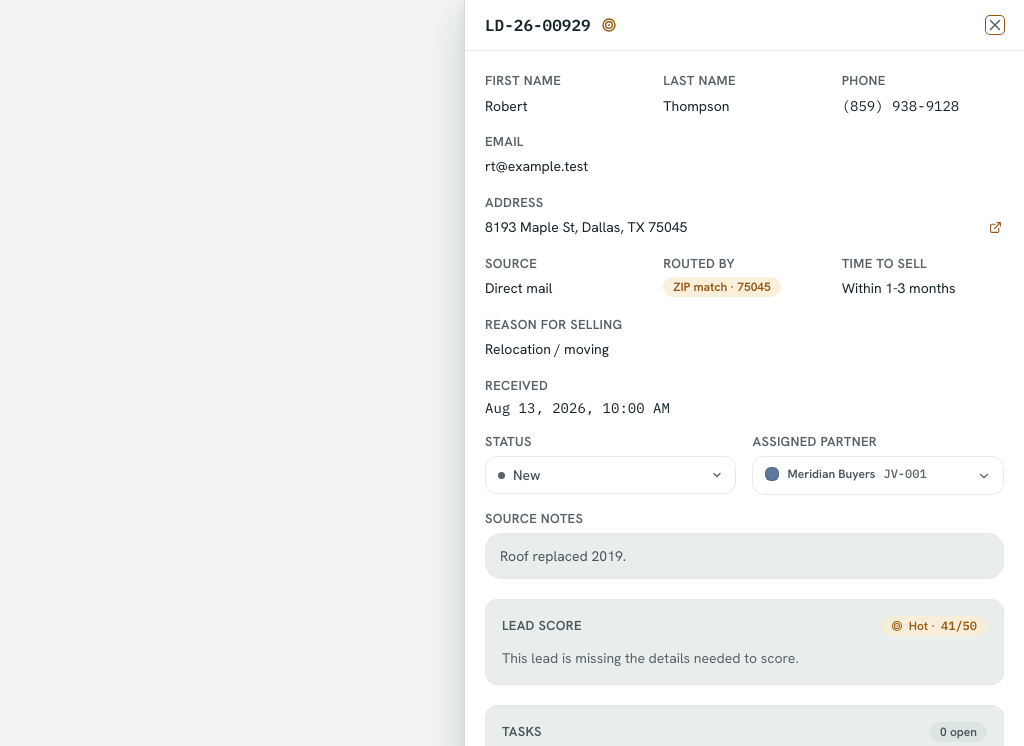
Test: N5-11: optimistic paint, rollback, and the retry toast › N5-12: a 4xx (an address/ZIP dedupe collision) surfaces the SERVER's message in the toast
Click the button with aria-label "Address:" at (586, 227), box [485,215,958,240]
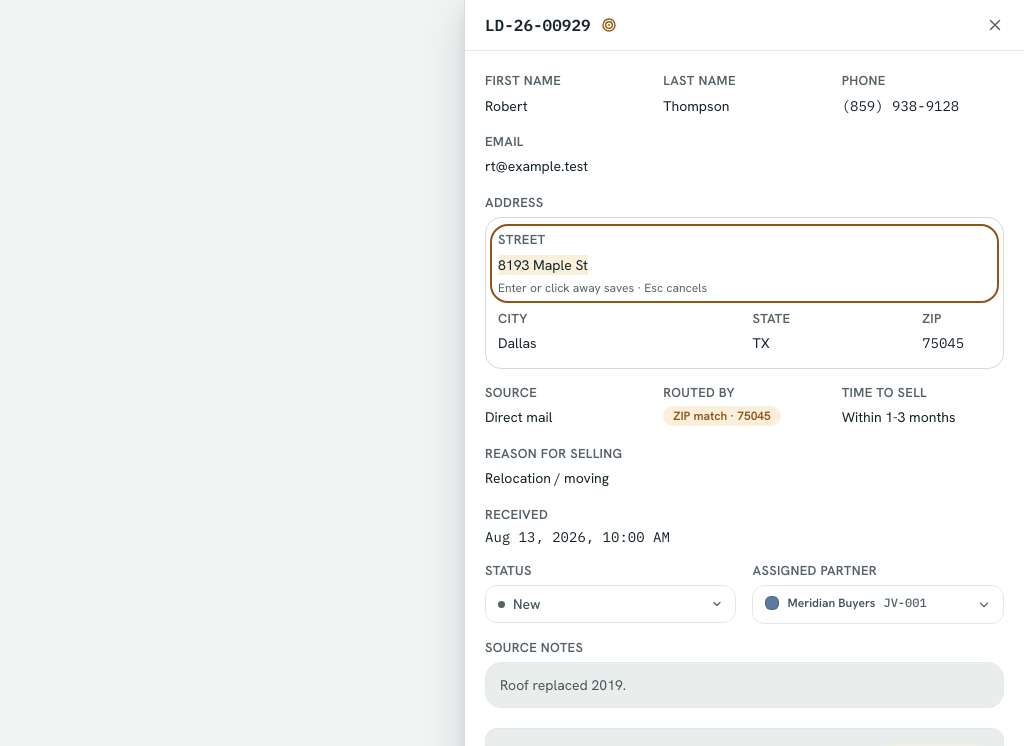
Type keys "1 Same St{Enter}"
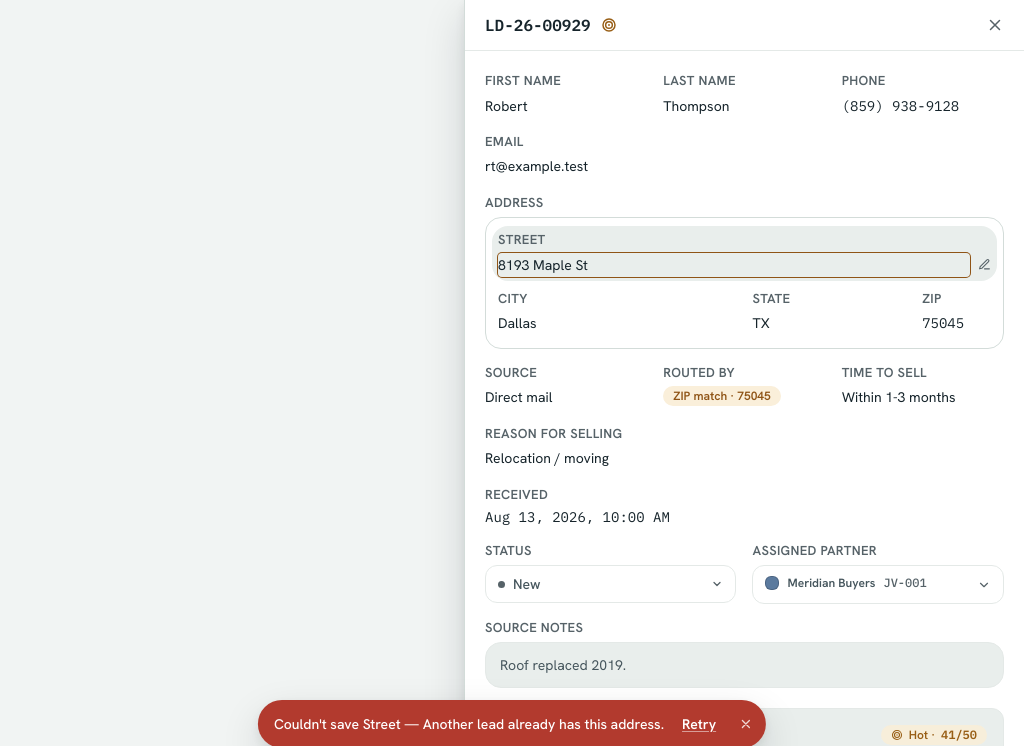
Now the text "Couldn't save Street — Another lead already has this address." is shown, box [274,714,664,734]
